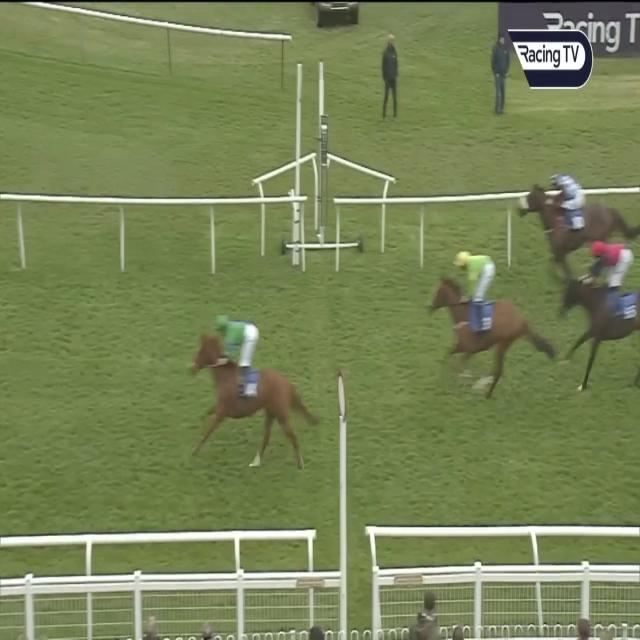horses-racing: (189, 312, 314, 472), (428, 248, 526, 404), (564, 235, 640, 395), (522, 169, 624, 252)
